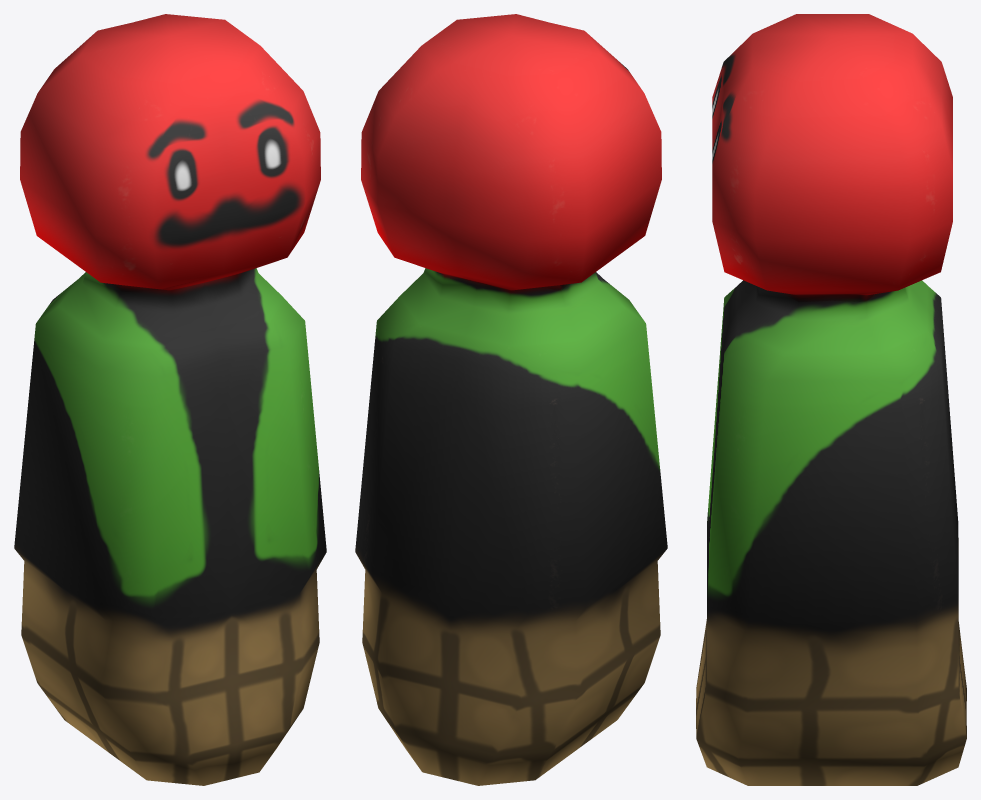
The model's file is Boneka.fbx.
The picture shows the model from 3 angles, left to right: view 1: azimuth 30°, elevation 25°; view 2: azimuth 150°, elevation 25°; view 3: azimuth 270°, elevation 25°; orthographic projection. The views are drawn at different scales.
Visible parts, largest first — view 1: Boneka Kayu_LP; view 2: Boneka Kayu_LP; view 3: Boneka Kayu_LP.
Boxes of the visible parts, bbox=[...] form: Boneka Kayu_LP: bbox=[14, 14, 326, 785]; Boneka Kayu_LP: bbox=[355, 14, 667, 785]; Boneka Kayu_LP: bbox=[696, 14, 966, 785].
Size of the model in its own units: 29.19 by 84.34 by 28.86.
1 material, 1 textured.
